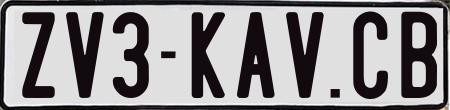3: (110, 12, 150, 102)
A: (236, 12, 277, 98)
B: (398, 10, 432, 99)
C: (351, 11, 386, 101)
K: (191, 9, 227, 100)
V: (64, 11, 108, 100), (283, 9, 323, 98)
Z: (22, 12, 61, 102)
